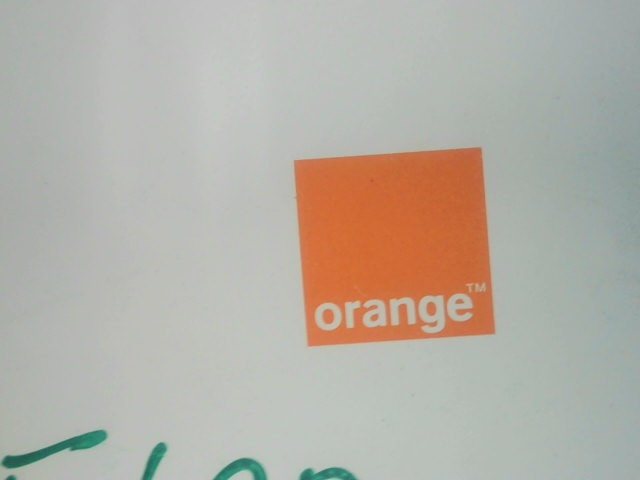AR_Orange: (282, 143, 503, 353)
